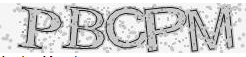B: (62, 4, 105, 50)
C: (104, 6, 147, 50)
M: (186, 6, 235, 53)
P: (16, 5, 62, 52), (144, 6, 188, 53)
